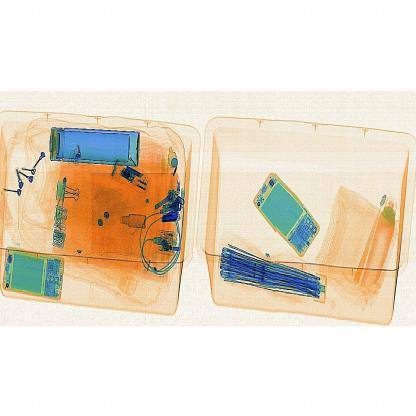knife: (156, 208, 191, 232)
